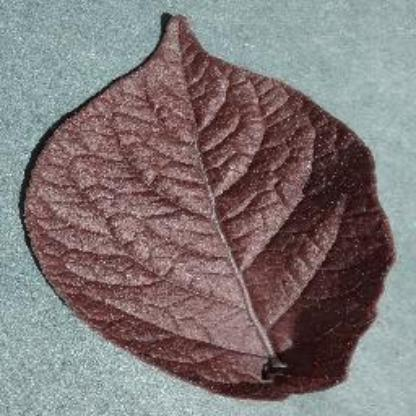Healthy-plant: (22, 12, 396, 402)
